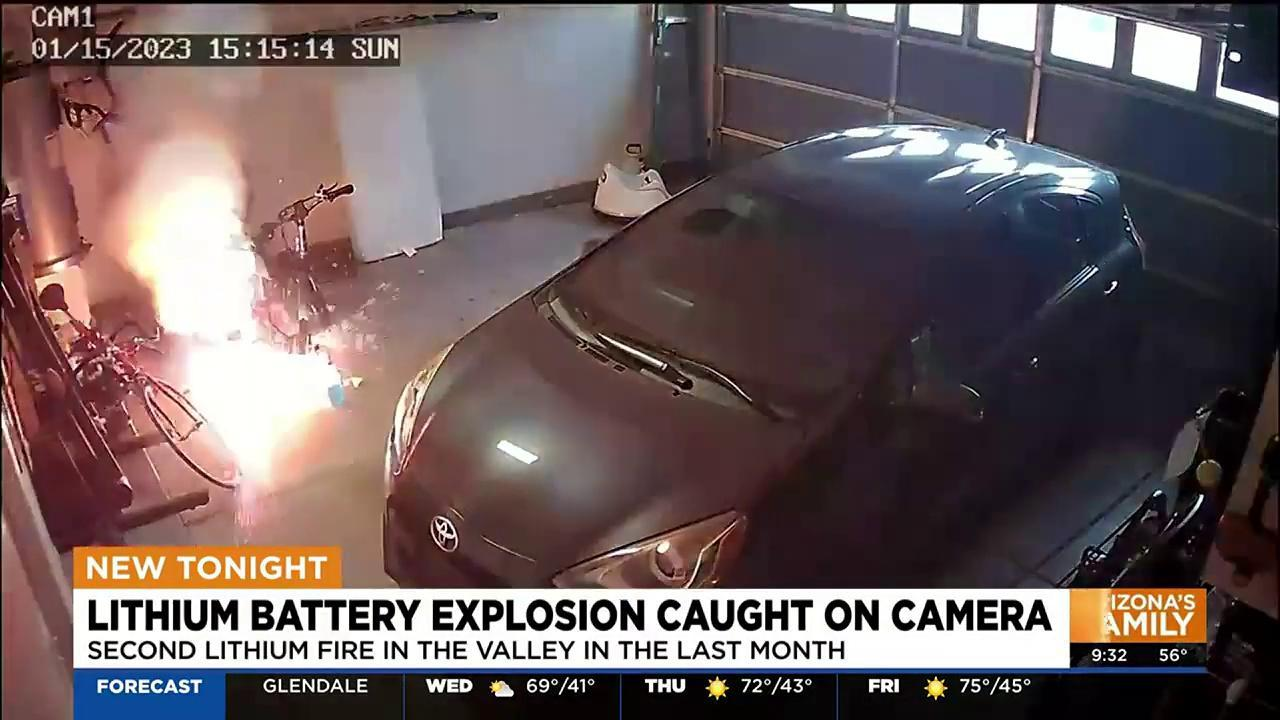fire: (1, 76, 393, 527)
